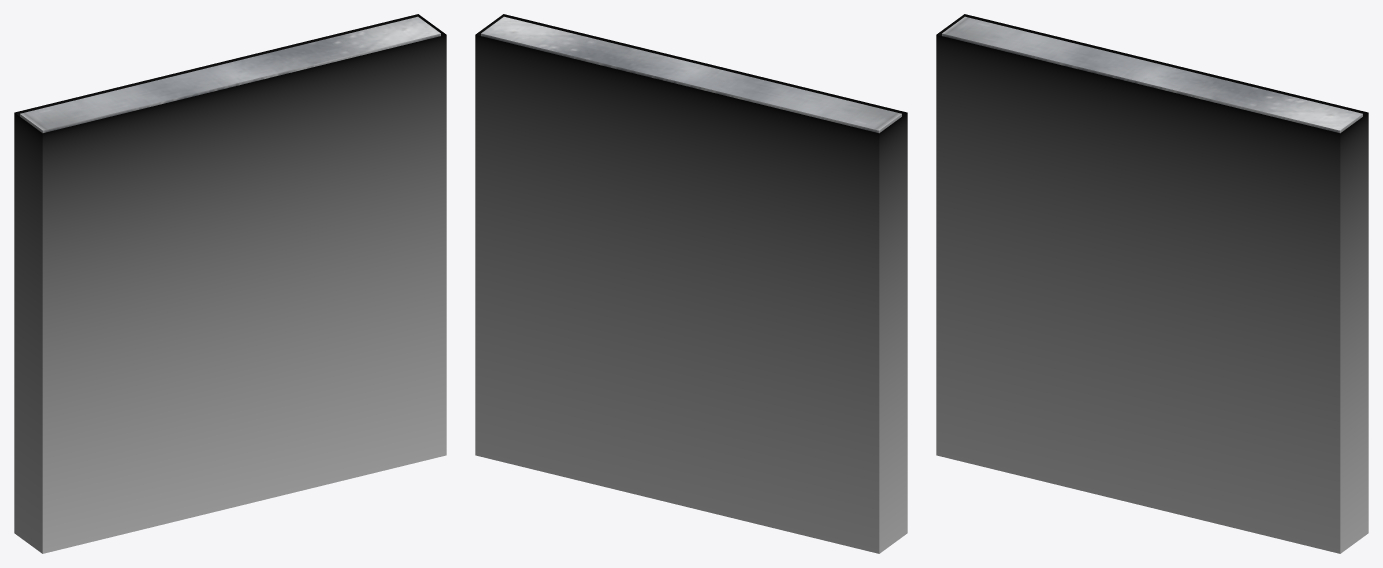
File: wall.FBX
3 views of the same model, side by side, from view 1: azimuth 30°, elevation 25°; view 2: azimuth 150°, elevation 25°; view 3: azimuth 330°, elevation 25° (orthographic).
Visible parts, largest first — view 1: Box002, Box001; view 2: Box002, Box001; view 3: Box002, Box001.
Part boxes in pixels (bbox=[...]): Box002: bbox=[14, 14, 446, 553]; Box001: bbox=[20, 16, 440, 133]; Box002: bbox=[475, 14, 907, 553]; Box001: bbox=[481, 16, 901, 133]; Box002: bbox=[936, 14, 1368, 553]; Box001: bbox=[942, 16, 1362, 133].
Size of the model in its own units: 79.93 by 79.52 by 9.7.
